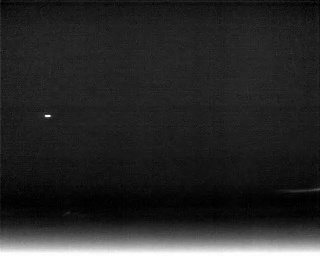AIRPLANE: (43, 112, 52, 120)
